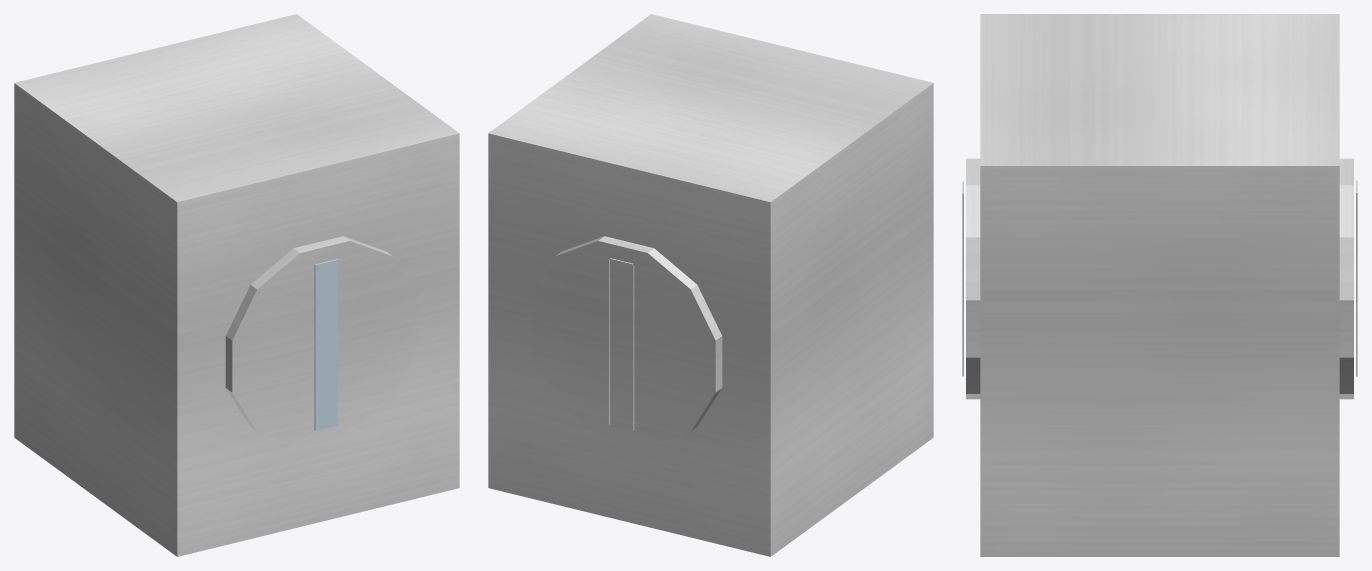
File: cooler.obj
The picture shows the model from 3 angles, left to right: view 1: azimuth 30°, elevation 25°; view 2: azimuth 150°, elevation 25°; view 3: azimuth 270°, elevation 25°; orthographic projection. The views are drawn at different scales.
Visible parts, largest first — view 1: cooler; view 2: cooler; view 3: cooler.
Boxes of the visible parts, bbox=[...] form: cooler: bbox=[14, 14, 459, 556]; cooler: bbox=[488, 14, 933, 556]; cooler: bbox=[962, 14, 1357, 556].
Bounding box in the file's own units: 1 × 1.2 × 1.1.
